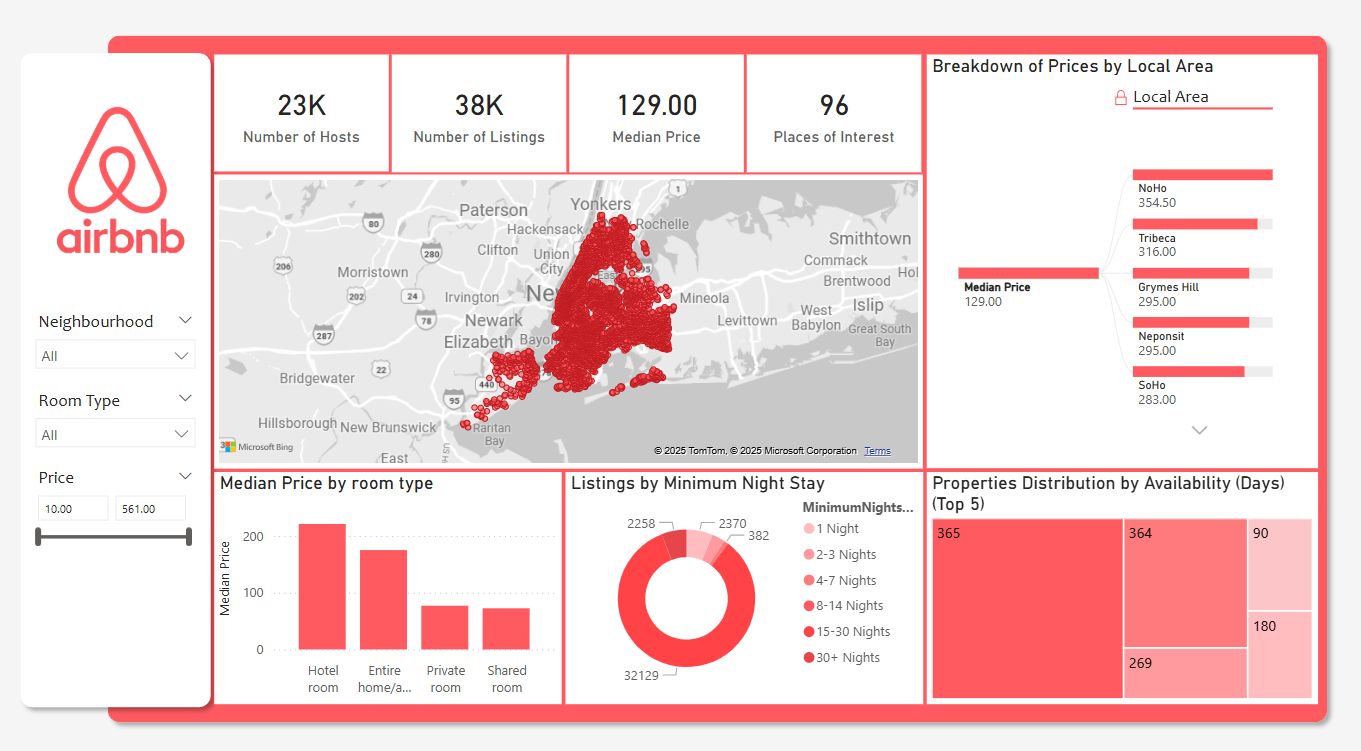

The page's visual inventory and layout, read from the dashboard file:
{"tool":"powerbi","page":{"name":"Page 1","canvas":[1280,720],"ordinal":0},"visuals":[{"type":"shape","box":[93,31.4,1152.3,657],"z":0},{"type":"shape","box":[11.6,47.7,195.3,626.7],"z":1000},{"type":"image","box":[53.2,98.7,115.6,115.6],"z":2000},{"type":"image","box":[41.6,157.1,139,139],"z":3000},{"type":"slicer","fields":{"Values":["Cleaned_Airbnb_Data.neighbourhood_group"]},"box":[24.7,292.2,168.8,72.7],"z":4000},{"type":"slicer","fields":{"Values":["Cleaned_Airbnb_Data.room_type"]},"box":[24.7,364.9,168.8,72.7],"z":5000},{"type":"slicer","fields":{"Values":["Cleaned_Airbnb_Data.price"]},"box":[24.7,437.7,168.8,97.4],"z":6000},{"type":"map","fields":{"Y":["Cleaned_Airbnb_Data.latitude"],"X":["Cleaned_Airbnb_Data.longitude"]},"box":[201.2,169.8,659.3,273.3],"z":7000},{"type":"card","fields":{"Values":["Cleaned_Airbnb_Data.Number of Hosts"]},"box":[201.5,57.9,162.5,109.1],"z":8000},{"type":"lineStackedColumnComboChart","title":"Median Price by room type","fields":{"Y":["Cleaned_Airbnb_Data.Average Price"],"Category":["Cleaned_Airbnb_Data.room_type"]},"box":[201.2,446.5,323.3,216.3],"z":9000},{"type":"decompositionTreeVisual","title":"Breakdown of Prices by Local Area","fields":{"ExplainBy":["Cleaned_Airbnb_Data.neighbourhood"],"Analyze":["Cleaned_Airbnb_Data.Median Price"]},"box":[864,58.1,364,384.9],"z":10000},{"type":"donutChart","title":"Listings by Minimum Night Stay","fields":{"Category":["Cleaned_Airbnb_Data.MinimumNightsRange"],"Y":["Cleaned_Airbnb_Data.Number of Listings"]},"box":[527.9,446.5,332.6,216.3],"z":11000},{"type":"treemap","title":"Properties Distribution by Availability (Days) (Top 5)","fields":{"Group":["Cleaned_Airbnb_Data.Avail365"],"Values":["Count(Cleaned_Airbnb_Data.Property id)"]},"box":[864,446.5,364,216.3],"z":12000},{"type":"card","fields":{"Values":["Cleaned_Airbnb_Data.Number of Listings"]},"box":[366.3,58.1,162.8,109.3],"z":13000},{"type":"card","fields":{"Values":["Cleaned_Airbnb_Data.Median Price"]},"box":[531.4,58.1,162.8,109.3],"z":14000},{"type":"card","fields":{"Values":["Cleaned_Airbnb_Data.Places_of_Interest"]},"box":[696.5,58.1,162.8,109.3],"z":15000}]}

Visuals, with their boxes in screenshot pixels (x1, y1, x2, y2), scaled from the page's 1280x720 canvas onto the 1361x751 screenshot:
shape: detection(99, 33, 1324, 718)
shape: detection(12, 50, 220, 703)
image: detection(57, 103, 179, 224)
image: detection(44, 164, 192, 309)
slicer - Cleaned_Airbnb_Data.neighbourhood_group: detection(26, 305, 206, 381)
slicer - Cleaned_Airbnb_Data.room_type: detection(26, 381, 206, 456)
slicer - Cleaned_Airbnb_Data.price: detection(26, 457, 206, 558)
map - Cleaned_Airbnb_Data.latitude x Cleaned_Airbnb_Data.longitude: detection(214, 177, 915, 462)
card - Cleaned_Airbnb_Data.Number of Hosts: detection(214, 60, 387, 174)
"Median Price by room type" lineStackedColumnComboChart: detection(214, 466, 558, 691)
"Breakdown of Prices by Local Area" decompositionTreeVisual: detection(919, 61, 1306, 462)
"Listings by Minimum Night Stay" donutChart: detection(561, 466, 915, 691)
"Properties Distribution by Availability (Days) (Top 5)" treemap: detection(919, 466, 1306, 691)
card - Cleaned_Airbnb_Data.Number of Listings: detection(389, 61, 563, 175)
card - Cleaned_Airbnb_Data.Median Price: detection(565, 61, 738, 175)
card - Cleaned_Airbnb_Data.Places_of_Interest: detection(741, 61, 914, 175)
